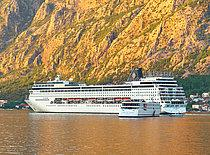Ship: (23, 71, 191, 120)
